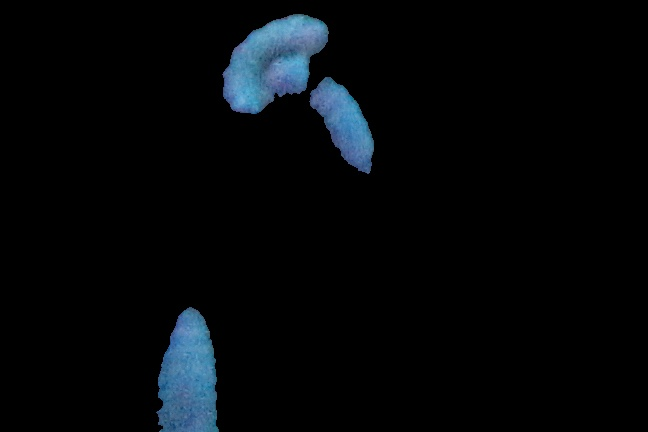larvae: (284, 61, 386, 189), (145, 303, 245, 432), (212, 16, 331, 122)
